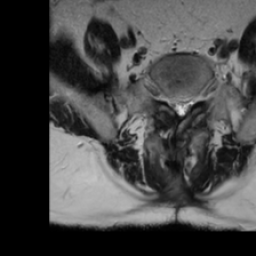CCS_stenosis: (177, 89, 184, 122)
LFS_normal: (192, 88, 200, 108)
LLS_normal: (185, 91, 191, 114)
RFS_normal: (162, 88, 170, 110)
RLS_normal: (171, 91, 178, 114)
